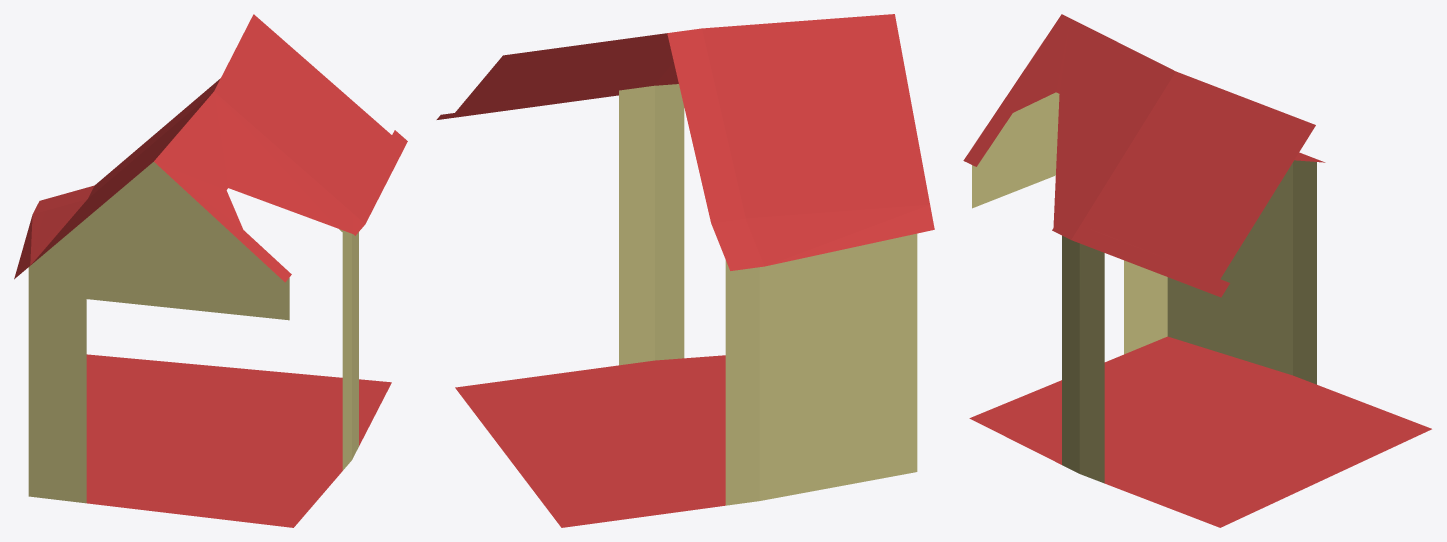
3 views of the same model, side by side, from view 1: azimuth 30°, elevation 25°; view 2: azimuth 150°, elevation 25°; view 3: azimuth 270°, elevation 25° (orthographic). The views are drawn at different scales.
Bounding box in the file's own units: 18.19 × 17.43 × 14.68.
